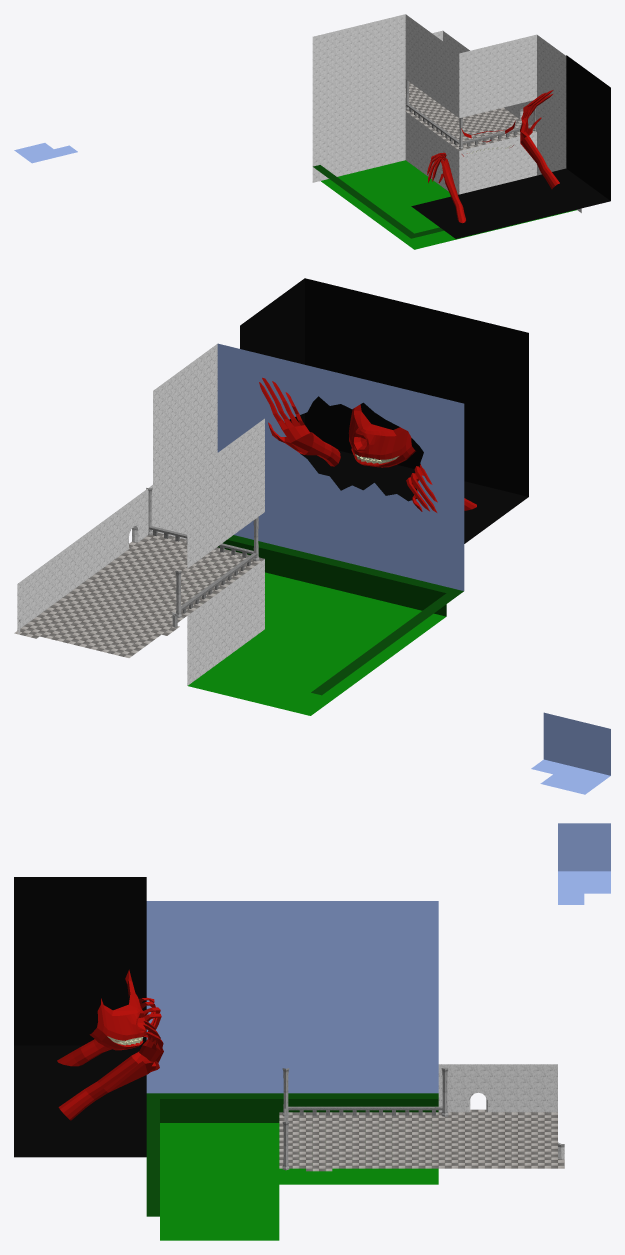
Rendered from Room17.glb.
3 views of the same model, one above another, from view 1: azimuth 30°, elevation 25°; view 2: azimuth 150°, elevation 25°; view 3: azimuth 270°, elevation 25° (orthographic). The views are drawn at different scales.
Visible parts, largest first — view 1: Walls.001, SpaceBox, Grass, Floor, RightHand.001, Hedge, LeftHand.001, Sky, Fence; view 2: Sky, SpaceBox, Walls.001, Grass, Floor, Hedge, RightHand.001, polySurface180, Fence, LeftHand.001; view 3: Sky, SpaceBox, Grass, Floor, Hedge, Walls.001, RightHand.001, polySurface180, LeftHand.001, Fence.
Boxes of the visible parts, left/top/right/bottom form: Walls.001: left=312, top=14, right=581, bottom=212; SpaceBox: left=411, top=55, right=610, bottom=238; Grass: left=321, top=160, right=576, bottom=249; Floor: left=405, top=82, right=536, bottom=150; RightHand.001: left=520, top=90, right=559, bottom=189; Hedge: left=313, top=165, right=443, bottom=238; LeftHand.001: left=427, top=152, right=465, bottom=223; Sky: left=14, top=143, right=77, bottom=163; Fence: left=406, top=104, right=532, bottom=146; Sky: left=217, top=343, right=610, bottom=794; SpaceBox: left=240, top=278, right=528, bottom=543; Walls.001: left=17, top=344, right=264, bottom=685; Grass: left=188, top=572, right=445, bottom=715; Floor: left=14, top=532, right=264, bottom=657; Hedge: left=217, top=535, right=463, bottom=695; RightHand.001: left=259, top=377, right=340, bottom=466; polySurface180: left=349, top=404, right=415, bottom=467; Fence: left=149, top=526, right=257, bottom=613; LeftHand.001: left=406, top=464, right=476, bottom=512; Sky: left=146, top=823, right=610, bottom=1093; SpaceBox: left=14, top=877, right=146, bottom=1157; Grass: left=160, top=1123, right=438, bottom=1240; Floor: left=279, top=1109, right=564, bottom=1171; Hedge: left=146, top=1093, right=438, bottom=1216; Walls.001: left=438, top=1064, right=564, bottom=1159; RightHand.001: left=58, top=1020, right=163, bottom=1120; polySurface180: left=89, top=969, right=146, bottom=1050; LeftHand.001: left=57, top=997, right=161, bottom=1066; Fence: left=284, top=1106, right=442, bottom=1121.
Bounding box in the file's own units: 53.5 × 20 × 45.
11 materials, 6 textured.
